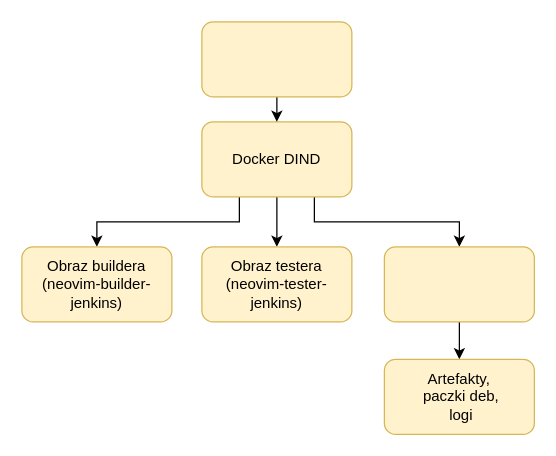
The diagram is 556 pixels wide and 456 high, and some of its shapes have lost their labels. Each missing label, with the centre of its shape:
"Jenkins CI/CD" goes at point 276,59.
"Obraz runtime" goes at point 458,284.
